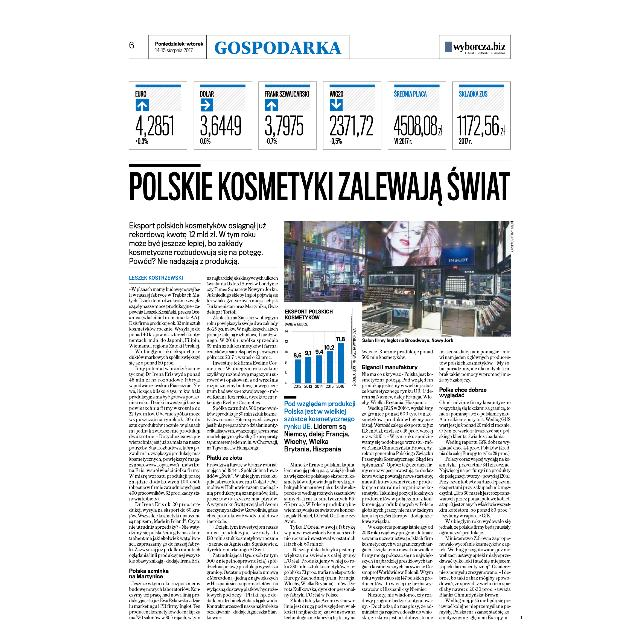article: (124, 167, 514, 625)
